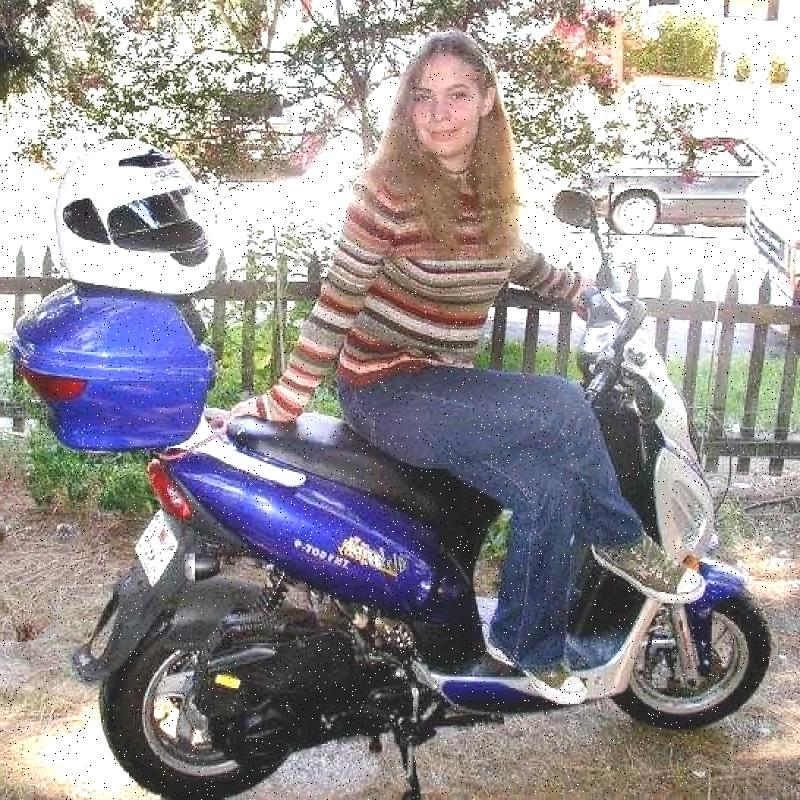bike: (62, 236, 760, 797)
